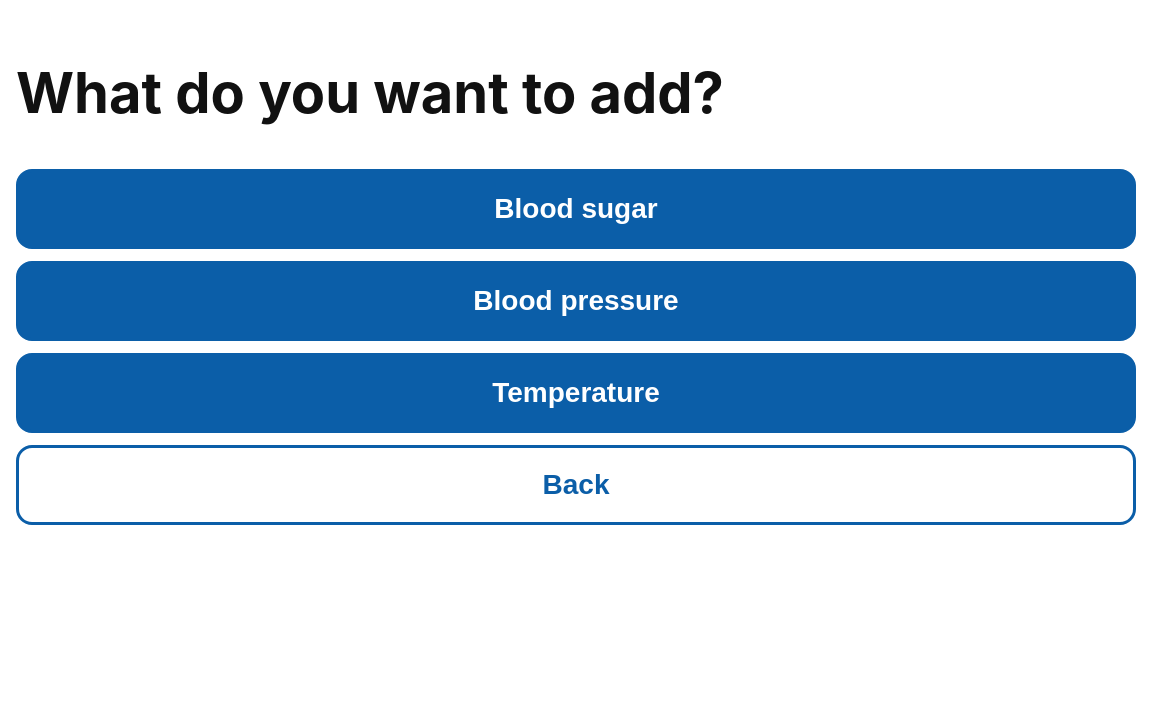
Test case: typed entry › blood pressure needs the lower number
The width and height of the screenshot is (1152, 720).
Step 1. Click the button "Blood pressure" → (576, 301), box [16,261,1136,341]
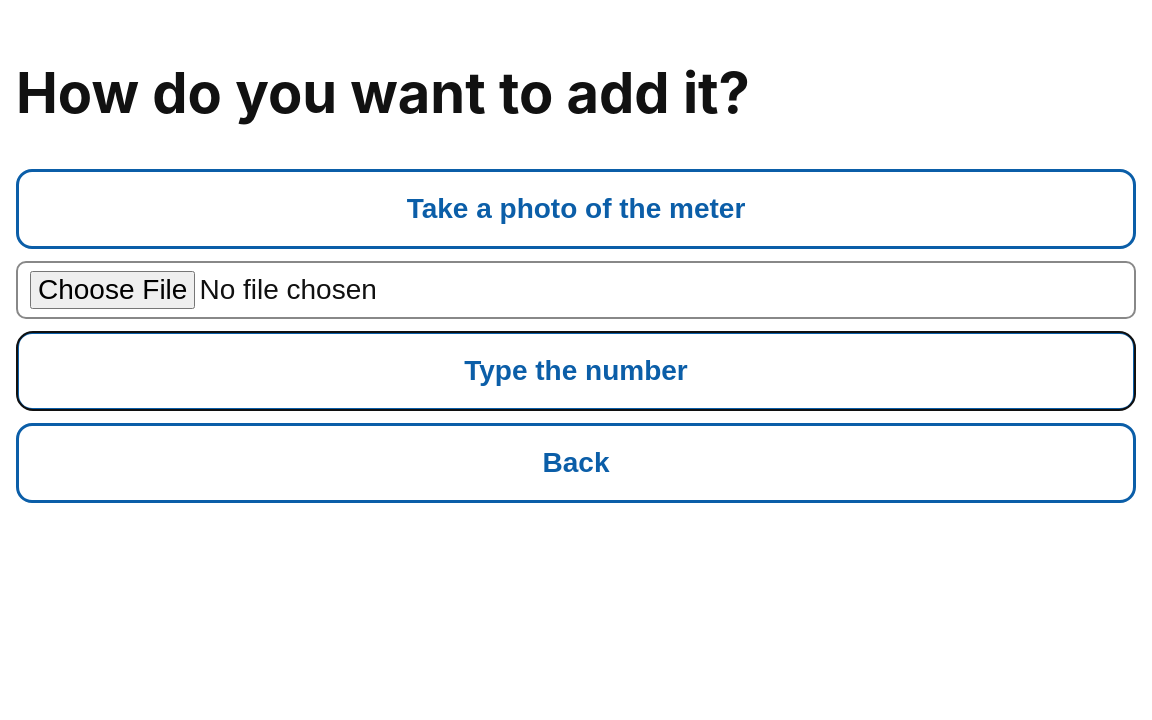
Step 2. Click the button "Type the number" → (576, 371), box [16,331,1136,411]
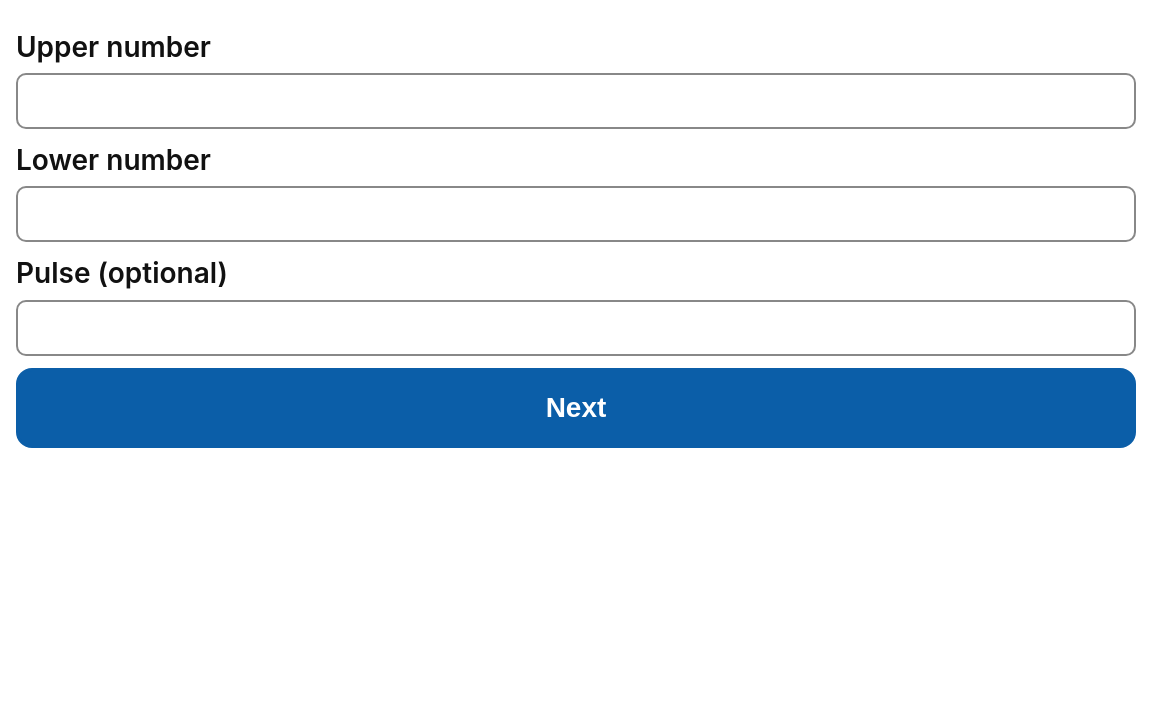
Step 3. Type "120" into the field labelled "Upper number" → (576, 101), box [16,73,1136,129]
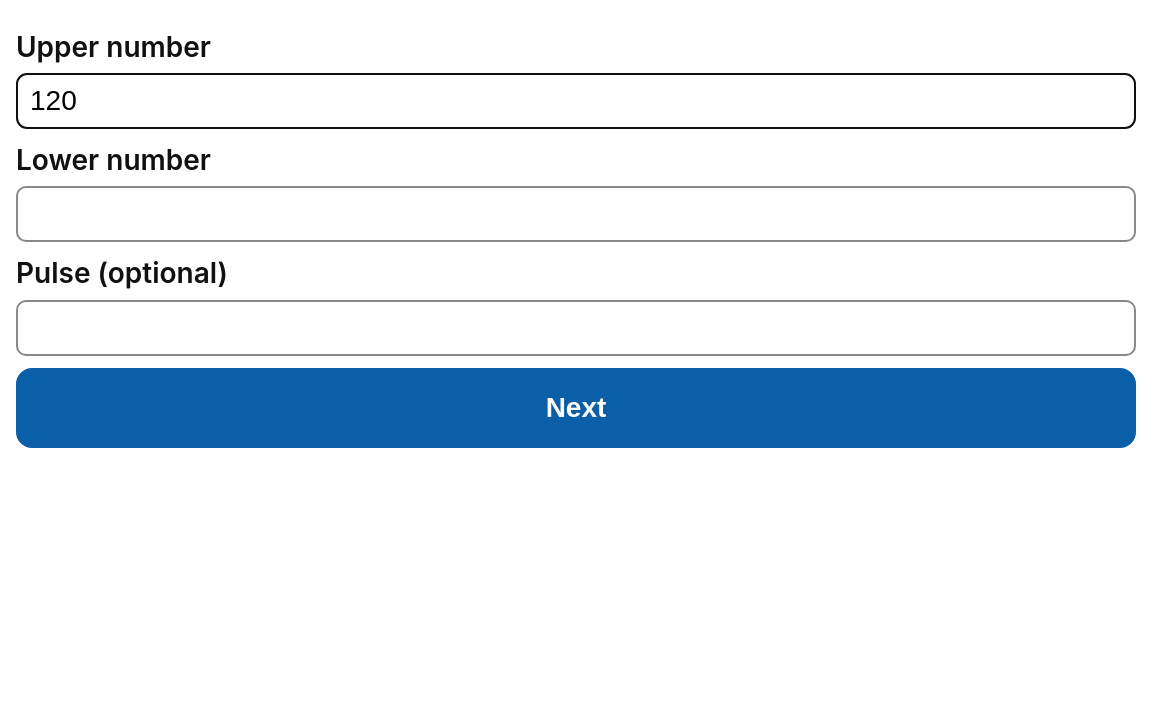
Step 4. Click the button "Next" → (576, 408), box [16,368,1136,448]
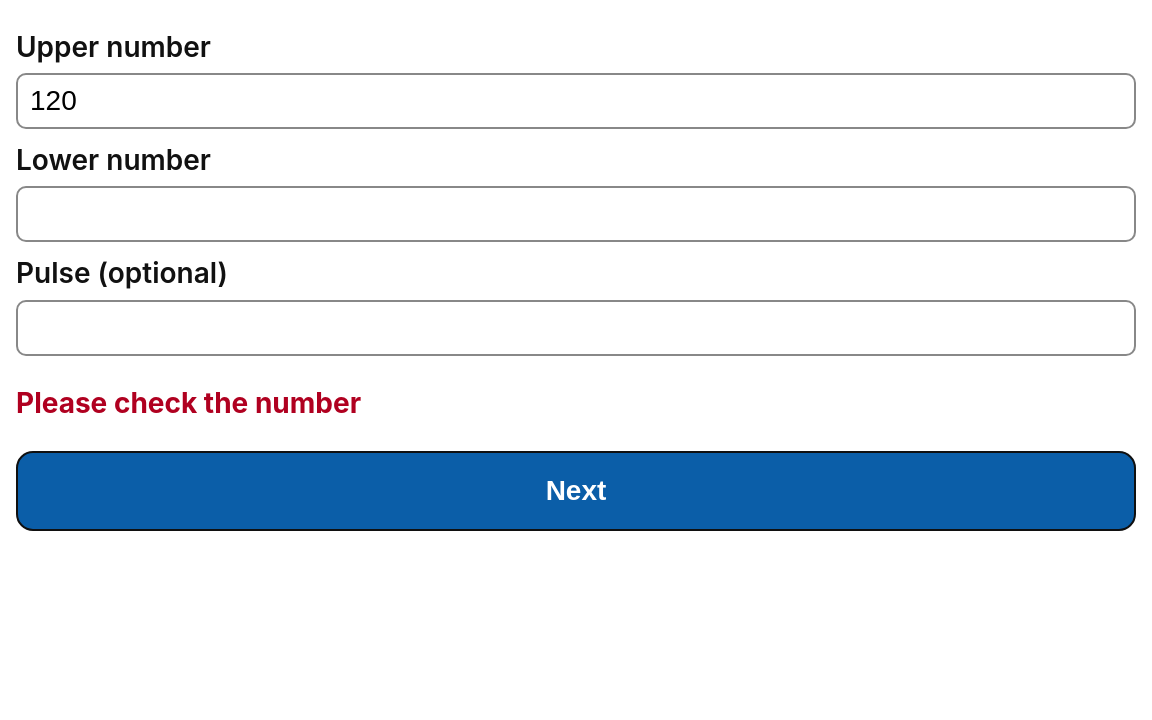
expect the message "Please check the number" is shown: met, box [16,386,361,420]
